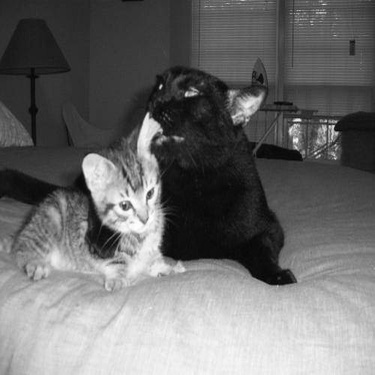cat: (74, 66, 294, 287), (12, 124, 187, 294)
